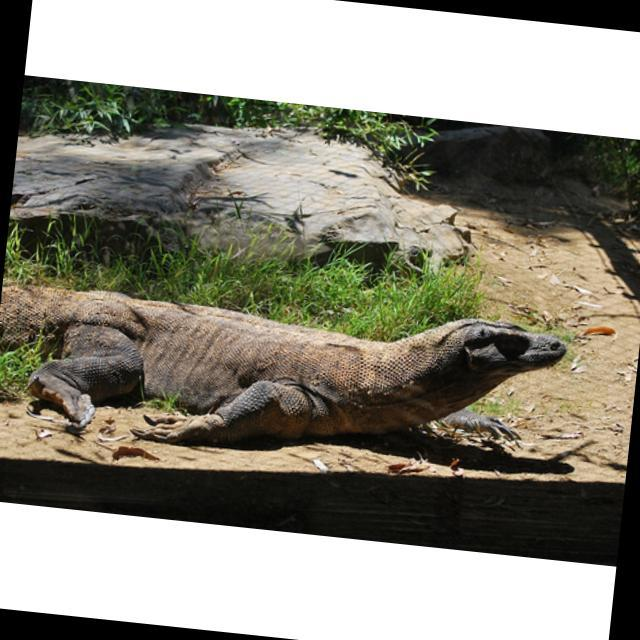KomodoDragon: (0, 265, 568, 483)
